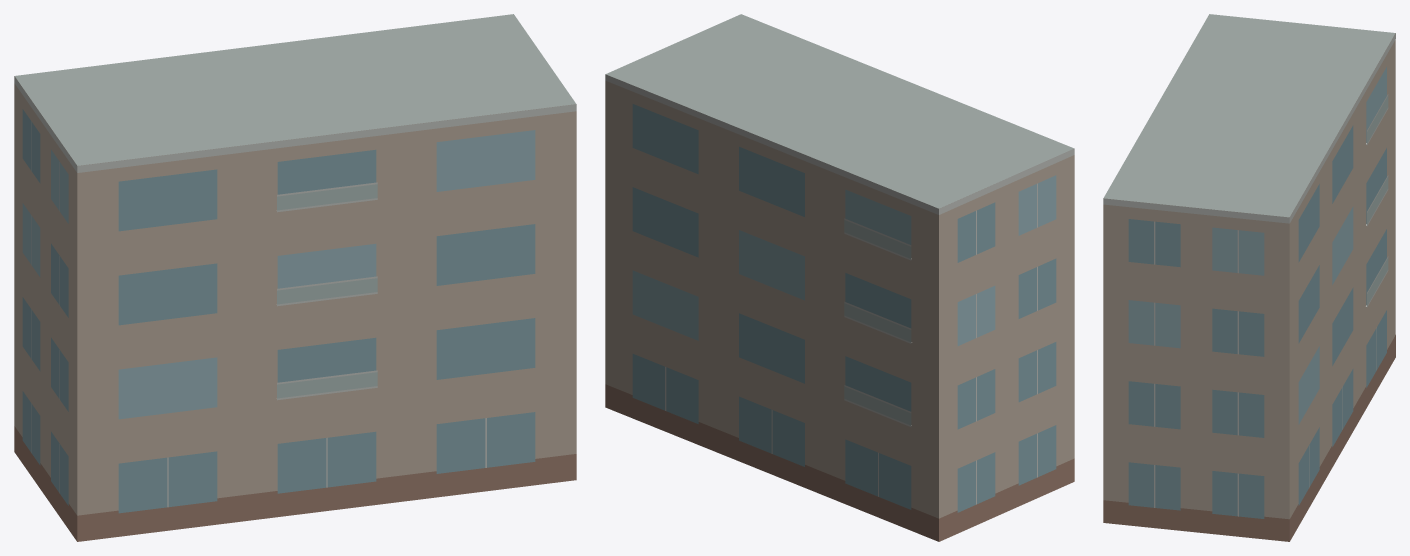
File: survey-upis-32974210.glb
3 views of the same model, side by side, from view 1: azimuth 30°, elevation 25°; view 2: azimuth 150°, elevation 25°; view 3: azimuth 270°, elevation 25° (orthographic). The views are drawn at different scales.
Parts seen in each view (by area): view 1: survey-upis-32974210.tmp; view 2: survey-upis-32974210.tmp; view 3: survey-upis-32974210.tmp.
Part boxes in pixels (<box>): survey-upis-32974210.tmp: <box>14,14,576,541</box>; survey-upis-32974210.tmp: <box>605,14,1074,541</box>; survey-upis-32974210.tmp: <box>1103,14,1395,541</box>.
Bounding box in the file's own units: 17.22 × 12.8 × 10.46.
